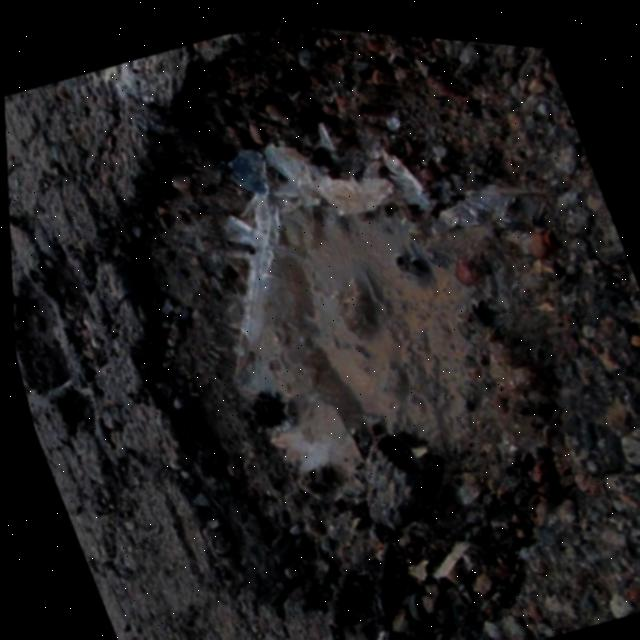Pothole: (0, 0, 640, 640), (8, 219, 149, 495)
